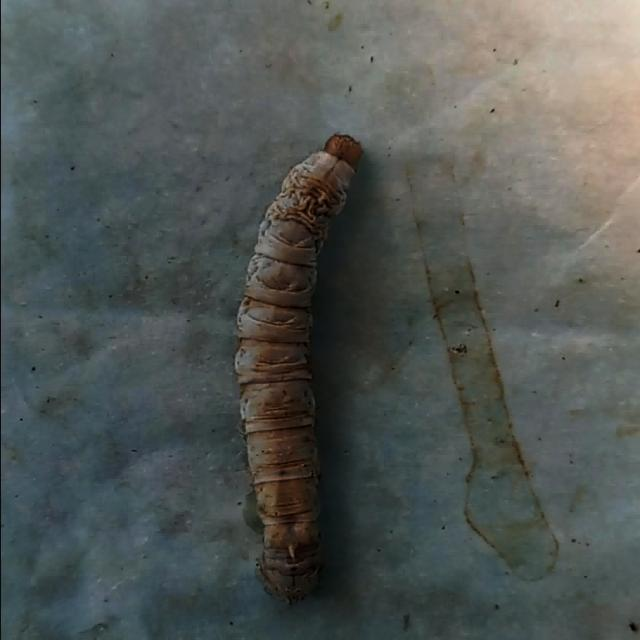Grasserie: (221, 107, 387, 619)
